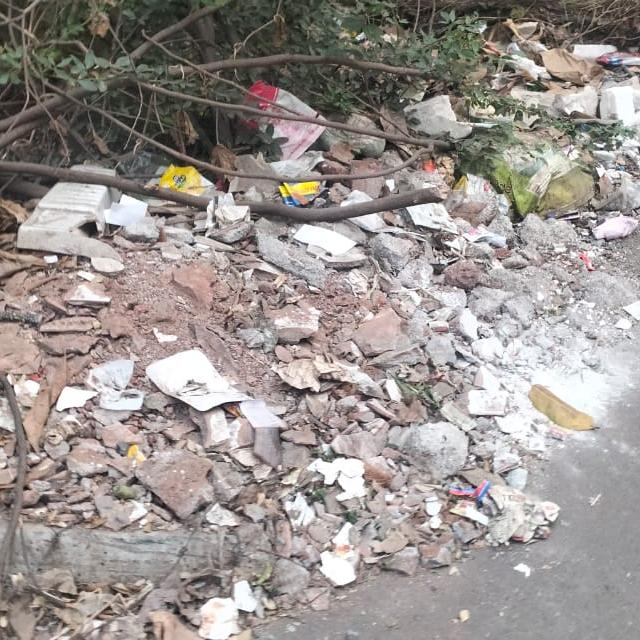plastic: (129, 336, 254, 426), (224, 70, 326, 174), (556, 28, 640, 80)
